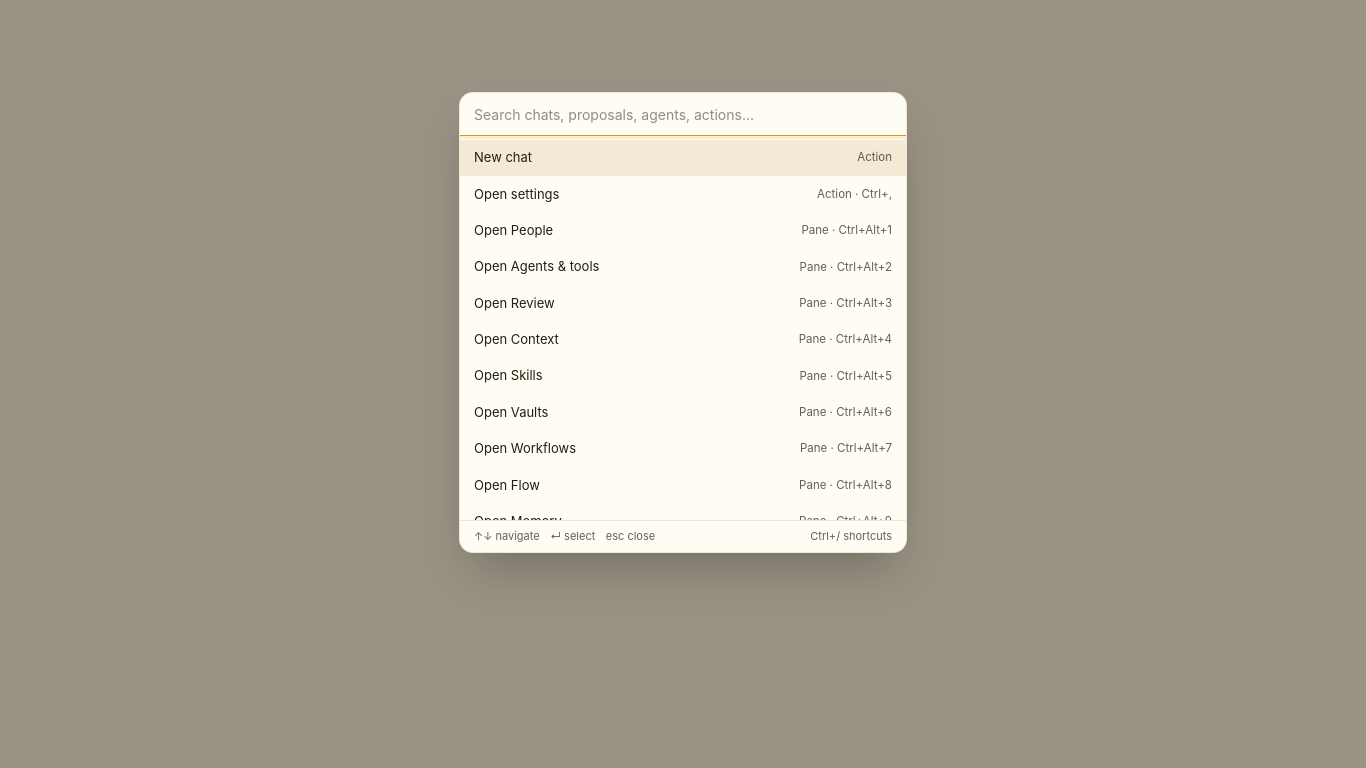
Test: CommandPalette › ranks fuzzy matches, best first
Step 1. Type "fxlgn" into the field with placeholder "Search chats, proposals, agents, actions…" → (683, 115), box [460,93,906,136]
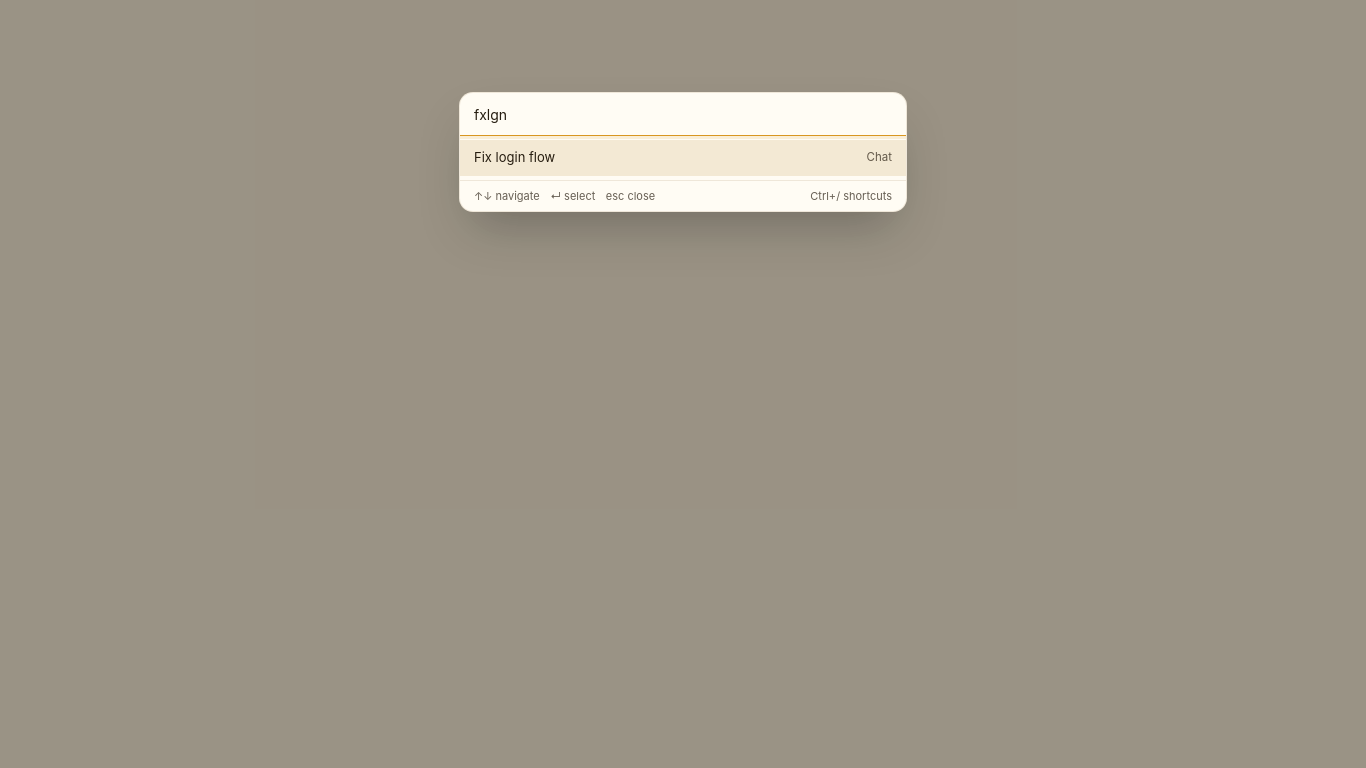
Now the option "Fix login flow Chat" is shown, box [460,140,906,176]
